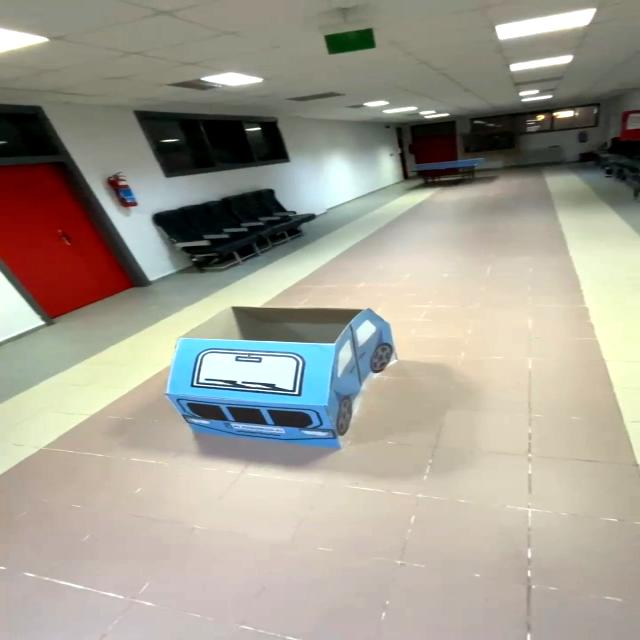blue_car: (150, 286, 413, 464)
